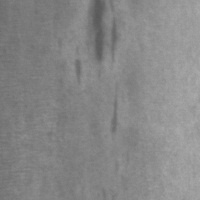inclusion: (87, 1, 124, 78), (106, 84, 124, 138), (71, 45, 85, 86)
